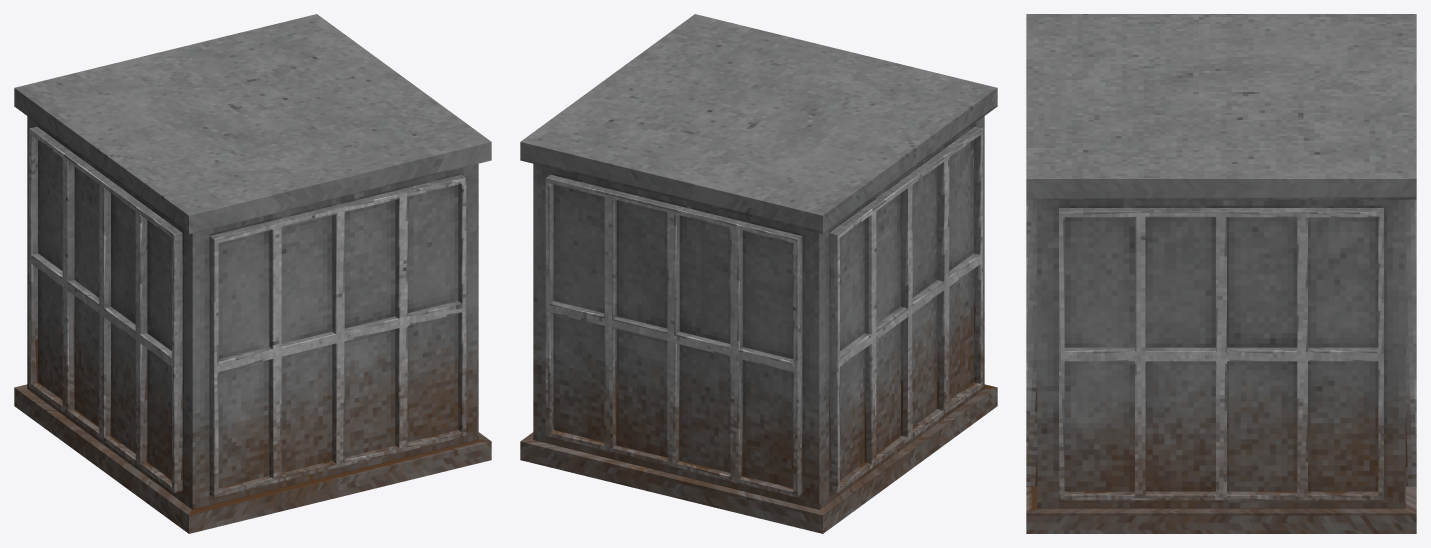
The model's file is SM_metalCrateDN_01.fbx.
3 views of the same model, side by side, from view 1: azimuth 30°, elevation 25°; view 2: azimuth 150°, elevation 25°; view 3: azimuth 270°, elevation 25° (orthographic). The views are drawn at different scales.
Parts seen in each view (by area): view 1: SM_metalCrateDN_01; view 2: SM_metalCrateDN_01; view 3: SM_metalCrateDN_01.
Boxes of the visible parts, box(x1,y1,x2,y2) form: SM_metalCrateDN_01: box(14, 14, 491, 533); SM_metalCrateDN_01: box(520, 14, 997, 533); SM_metalCrateDN_01: box(1026, 14, 1416, 533).
Bounding box in the file's own units: 180 × 181 × 180.
1 material, 1 textured.
